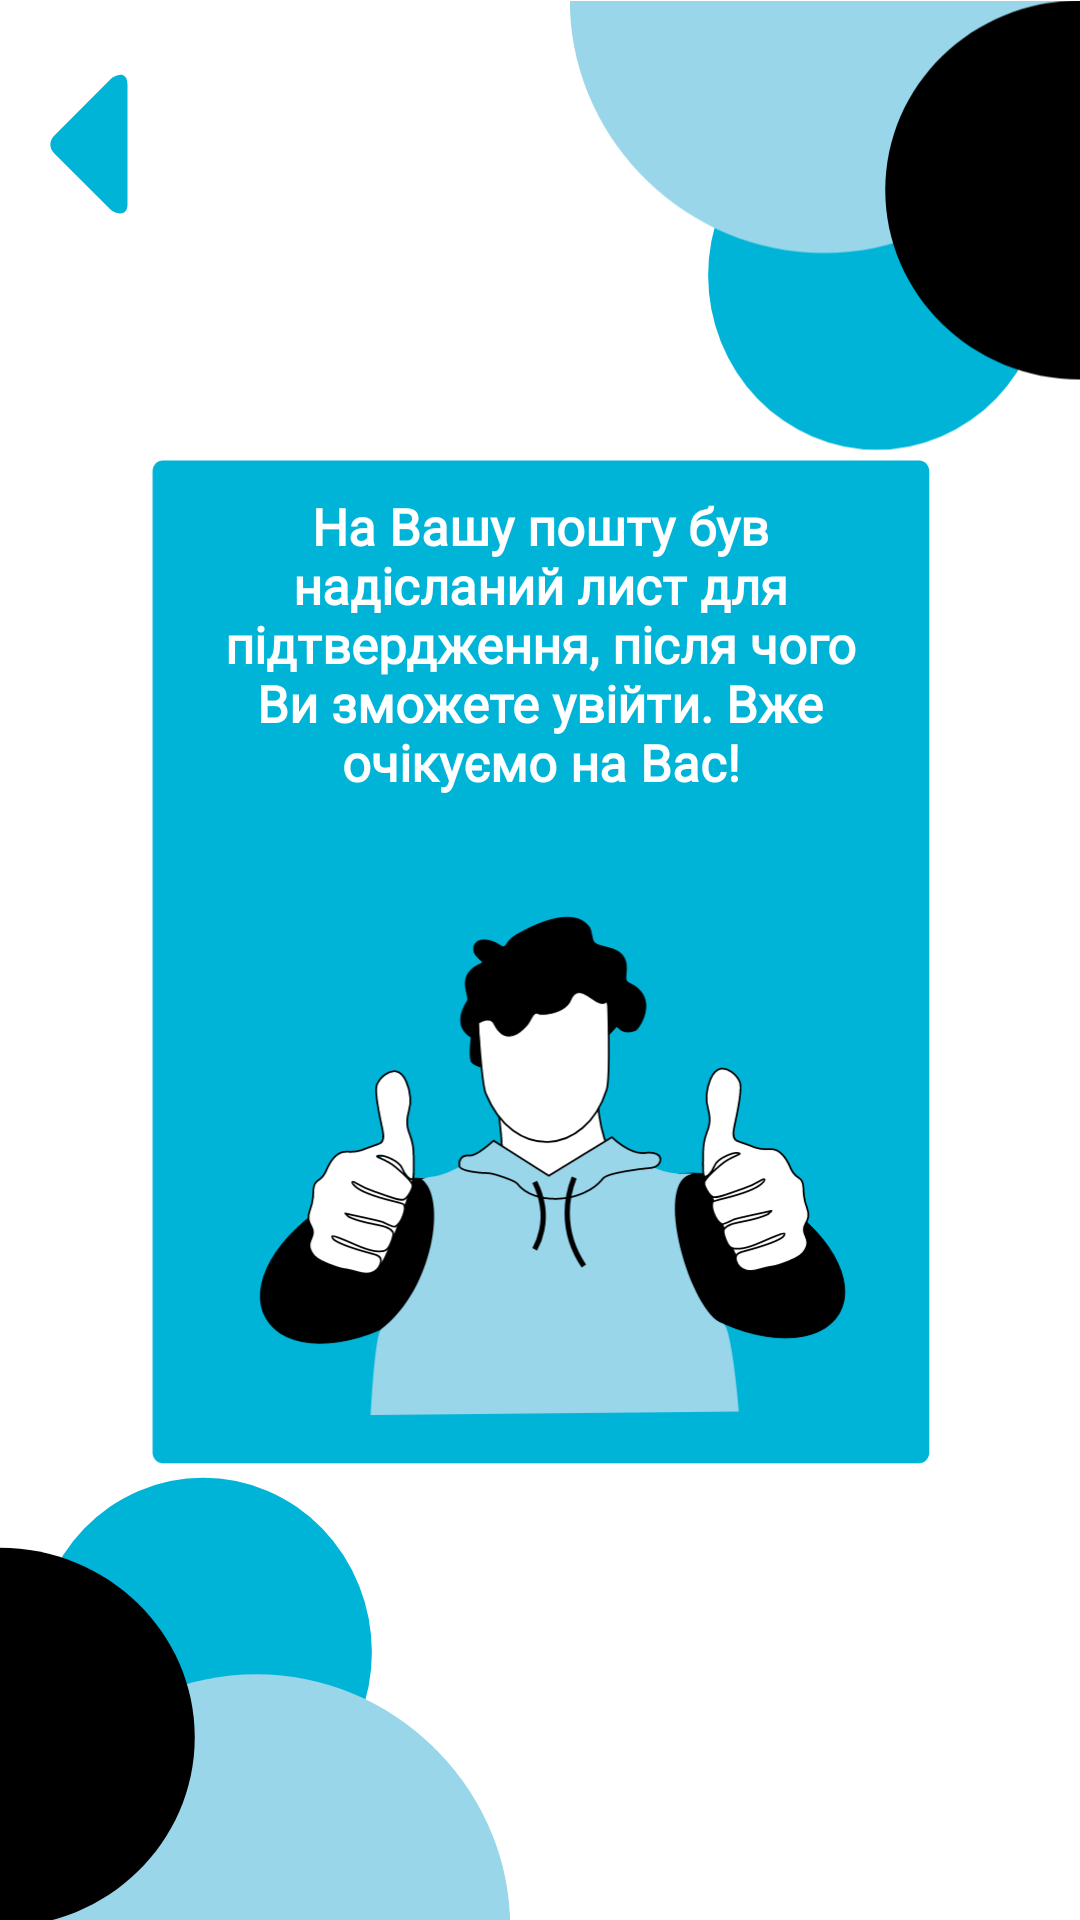

Where icons sit on this 1080 x 1920 app screen, as (x1, y1, x2, y2):
back: (50, 74, 128, 214)
